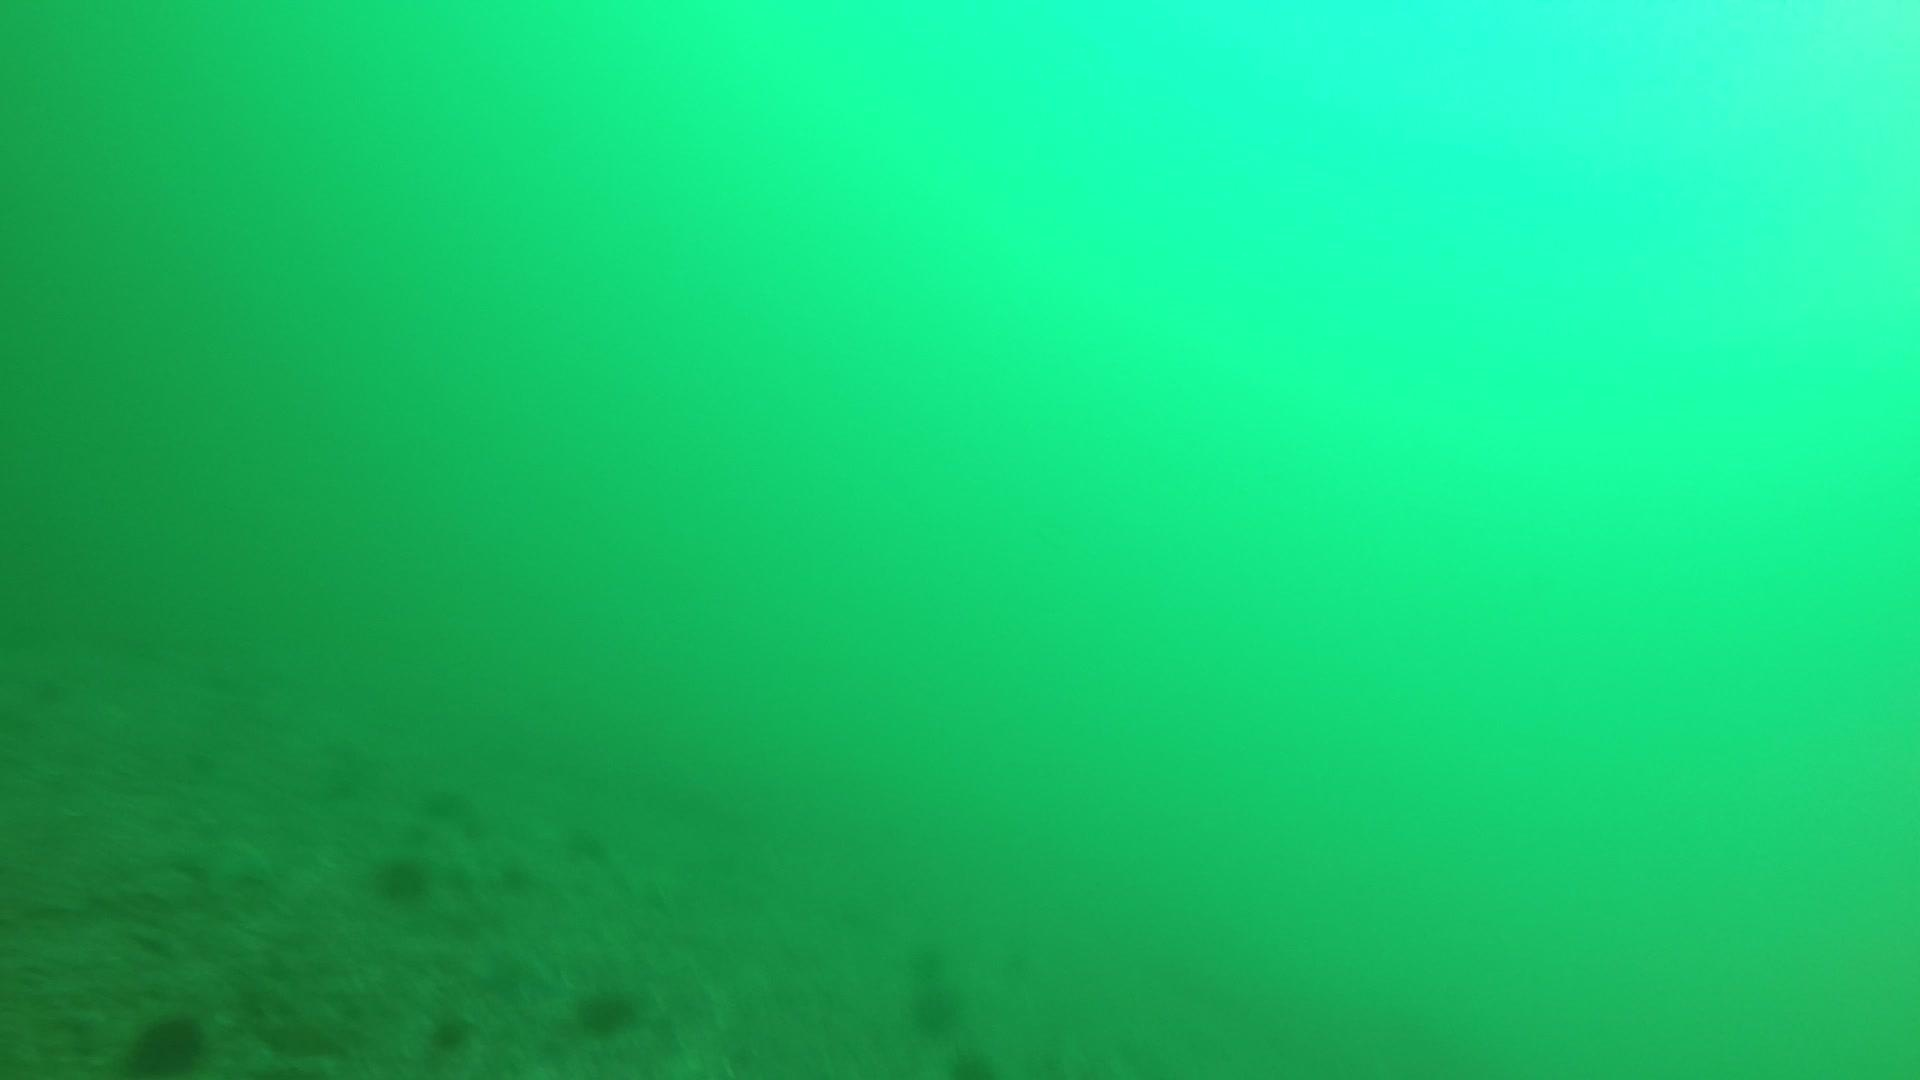echinus: (123, 1007, 214, 1075), (570, 980, 642, 1040), (903, 975, 967, 1038), (901, 938, 961, 1004), (368, 848, 435, 906), (422, 1007, 477, 1060)
starfish: (173, 819, 282, 894)
